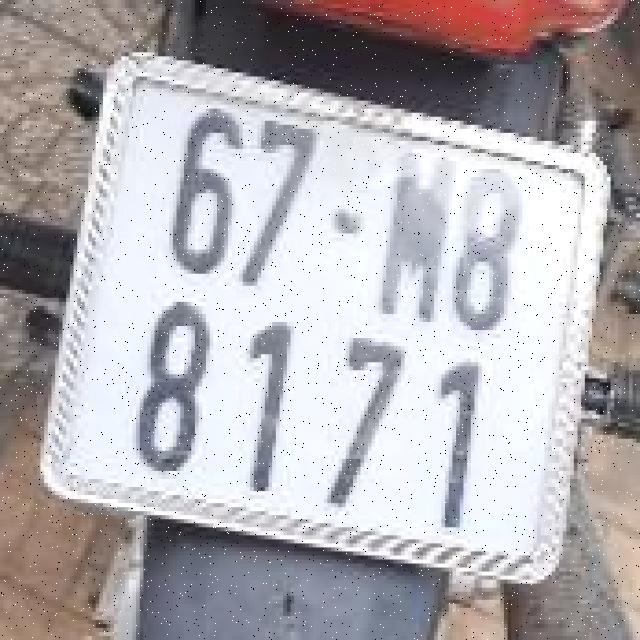1: (432, 352, 502, 558), (242, 316, 302, 497)
6: (170, 90, 247, 272)
7: (318, 324, 410, 529), (241, 111, 322, 300)
8: (132, 286, 221, 479), (450, 159, 528, 336)
M: (368, 137, 452, 326)
